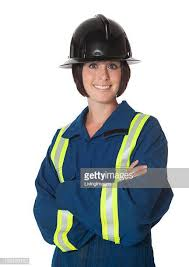Person_wearing_helmet: (60, 11, 140, 75)
